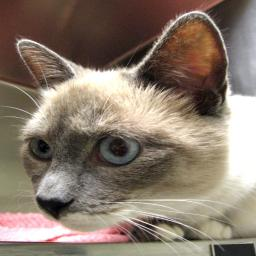catnose: (34, 194, 77, 220)
